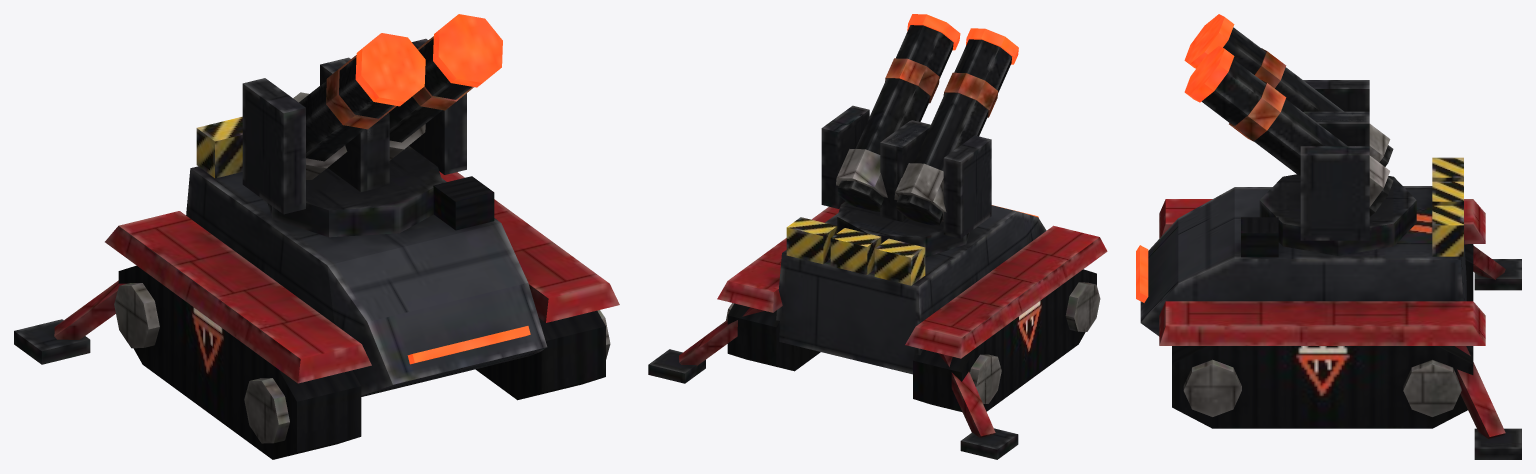
The model's file is u_mortar2_e.glb.
3 views of the same model, side by side, from view 1: azimuth 30°, elevation 25°; view 2: azimuth 150°, elevation 25°; view 3: azimuth 270°, elevation 25° (orthographic). The views are drawn at different scales.
Visible parts, largest first — view 1: u_mortar2_e; view 2: u_mortar2_e; view 3: u_mortar2_e.
Boxes of the visible parts, box(x1,y1,x2,y2) form: u_mortar2_e: box(14, 14, 619, 459); u_mortar2_e: box(648, 14, 1107, 459); u_mortar2_e: box(1136, 14, 1521, 459).
Bounding box in the file's own units: 1.6 × 1.31 × 1.38.
Materials: 1 (1 with a texture image).
